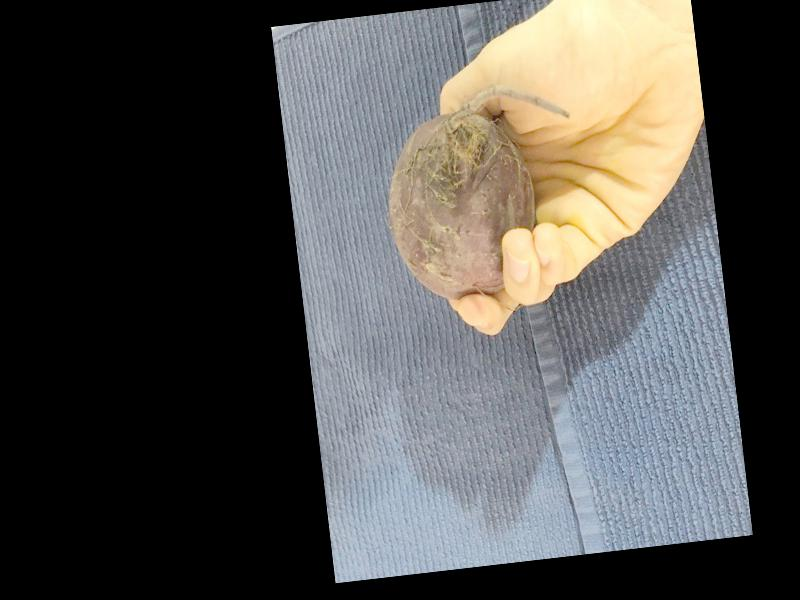Beet: (377, 79, 591, 305)
